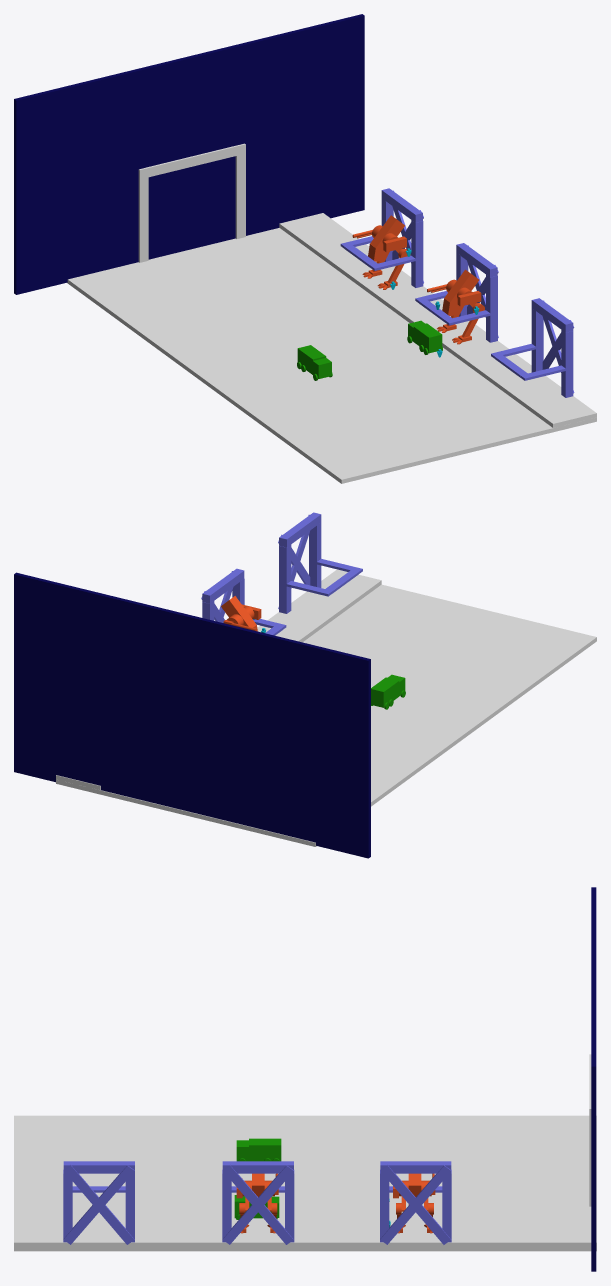
The model's file is mechaWorkshop.fbx.
3 views of the same model, one above another, from view 1: azimuth 30°, elevation 25°; view 2: azimuth 150°, elevation 25°; view 3: azimuth 270°, elevation 25° (orthographic). The views are drawn at different scales.
Parts seen in each view (by area): view 1: Ground, Cube, MStand.001, Cube.001, MStand.002, MStand, Mecha, Mecha.001, Truck.001, Truck; view 2: Cube, Ground, MStand.001, MStand, Truck.001, Mecha; view 3: Ground, MStand.001, MStand, MStand.002, Cube, Truck.001, Mecha, Mecha.001.
Boxes of the visible parts, x1,y1,x2,y2 form: Ground: (67,213,596,483); Cube: (14,14,364,294); MStand.001: (491,298,574,397); Cube.001: (138,143,245,262); MStand.002: (340,188,423,287); MStand: (415,243,498,342); Mecha: (427,269,484,344); Mecha.001: (352,215,410,289); Truck.001: (297,345,332,380); Truck: (407,320,442,354); Cube: (14,572,370,858); Ground: (56,569,596,846); MStand.001: (278,512,362,613); MStand: (201,568,286,635); Truck.001: (371,674,405,709); Mecha: (221,596,261,631); Ground: (14,1115,596,1251); MStand.001: (63,1161,134,1244); MStand: (222,1161,294,1244); MStand.002: (380,1161,451,1244); Cube: (591,887,596,1271); Truck.001: (236,1138,281,1161); Mecha: (236,1173,278,1233); Mecha.001: (393,1173,435,1233).
Bounding box in the file's own units: 17471 × 9364 × 24000.
